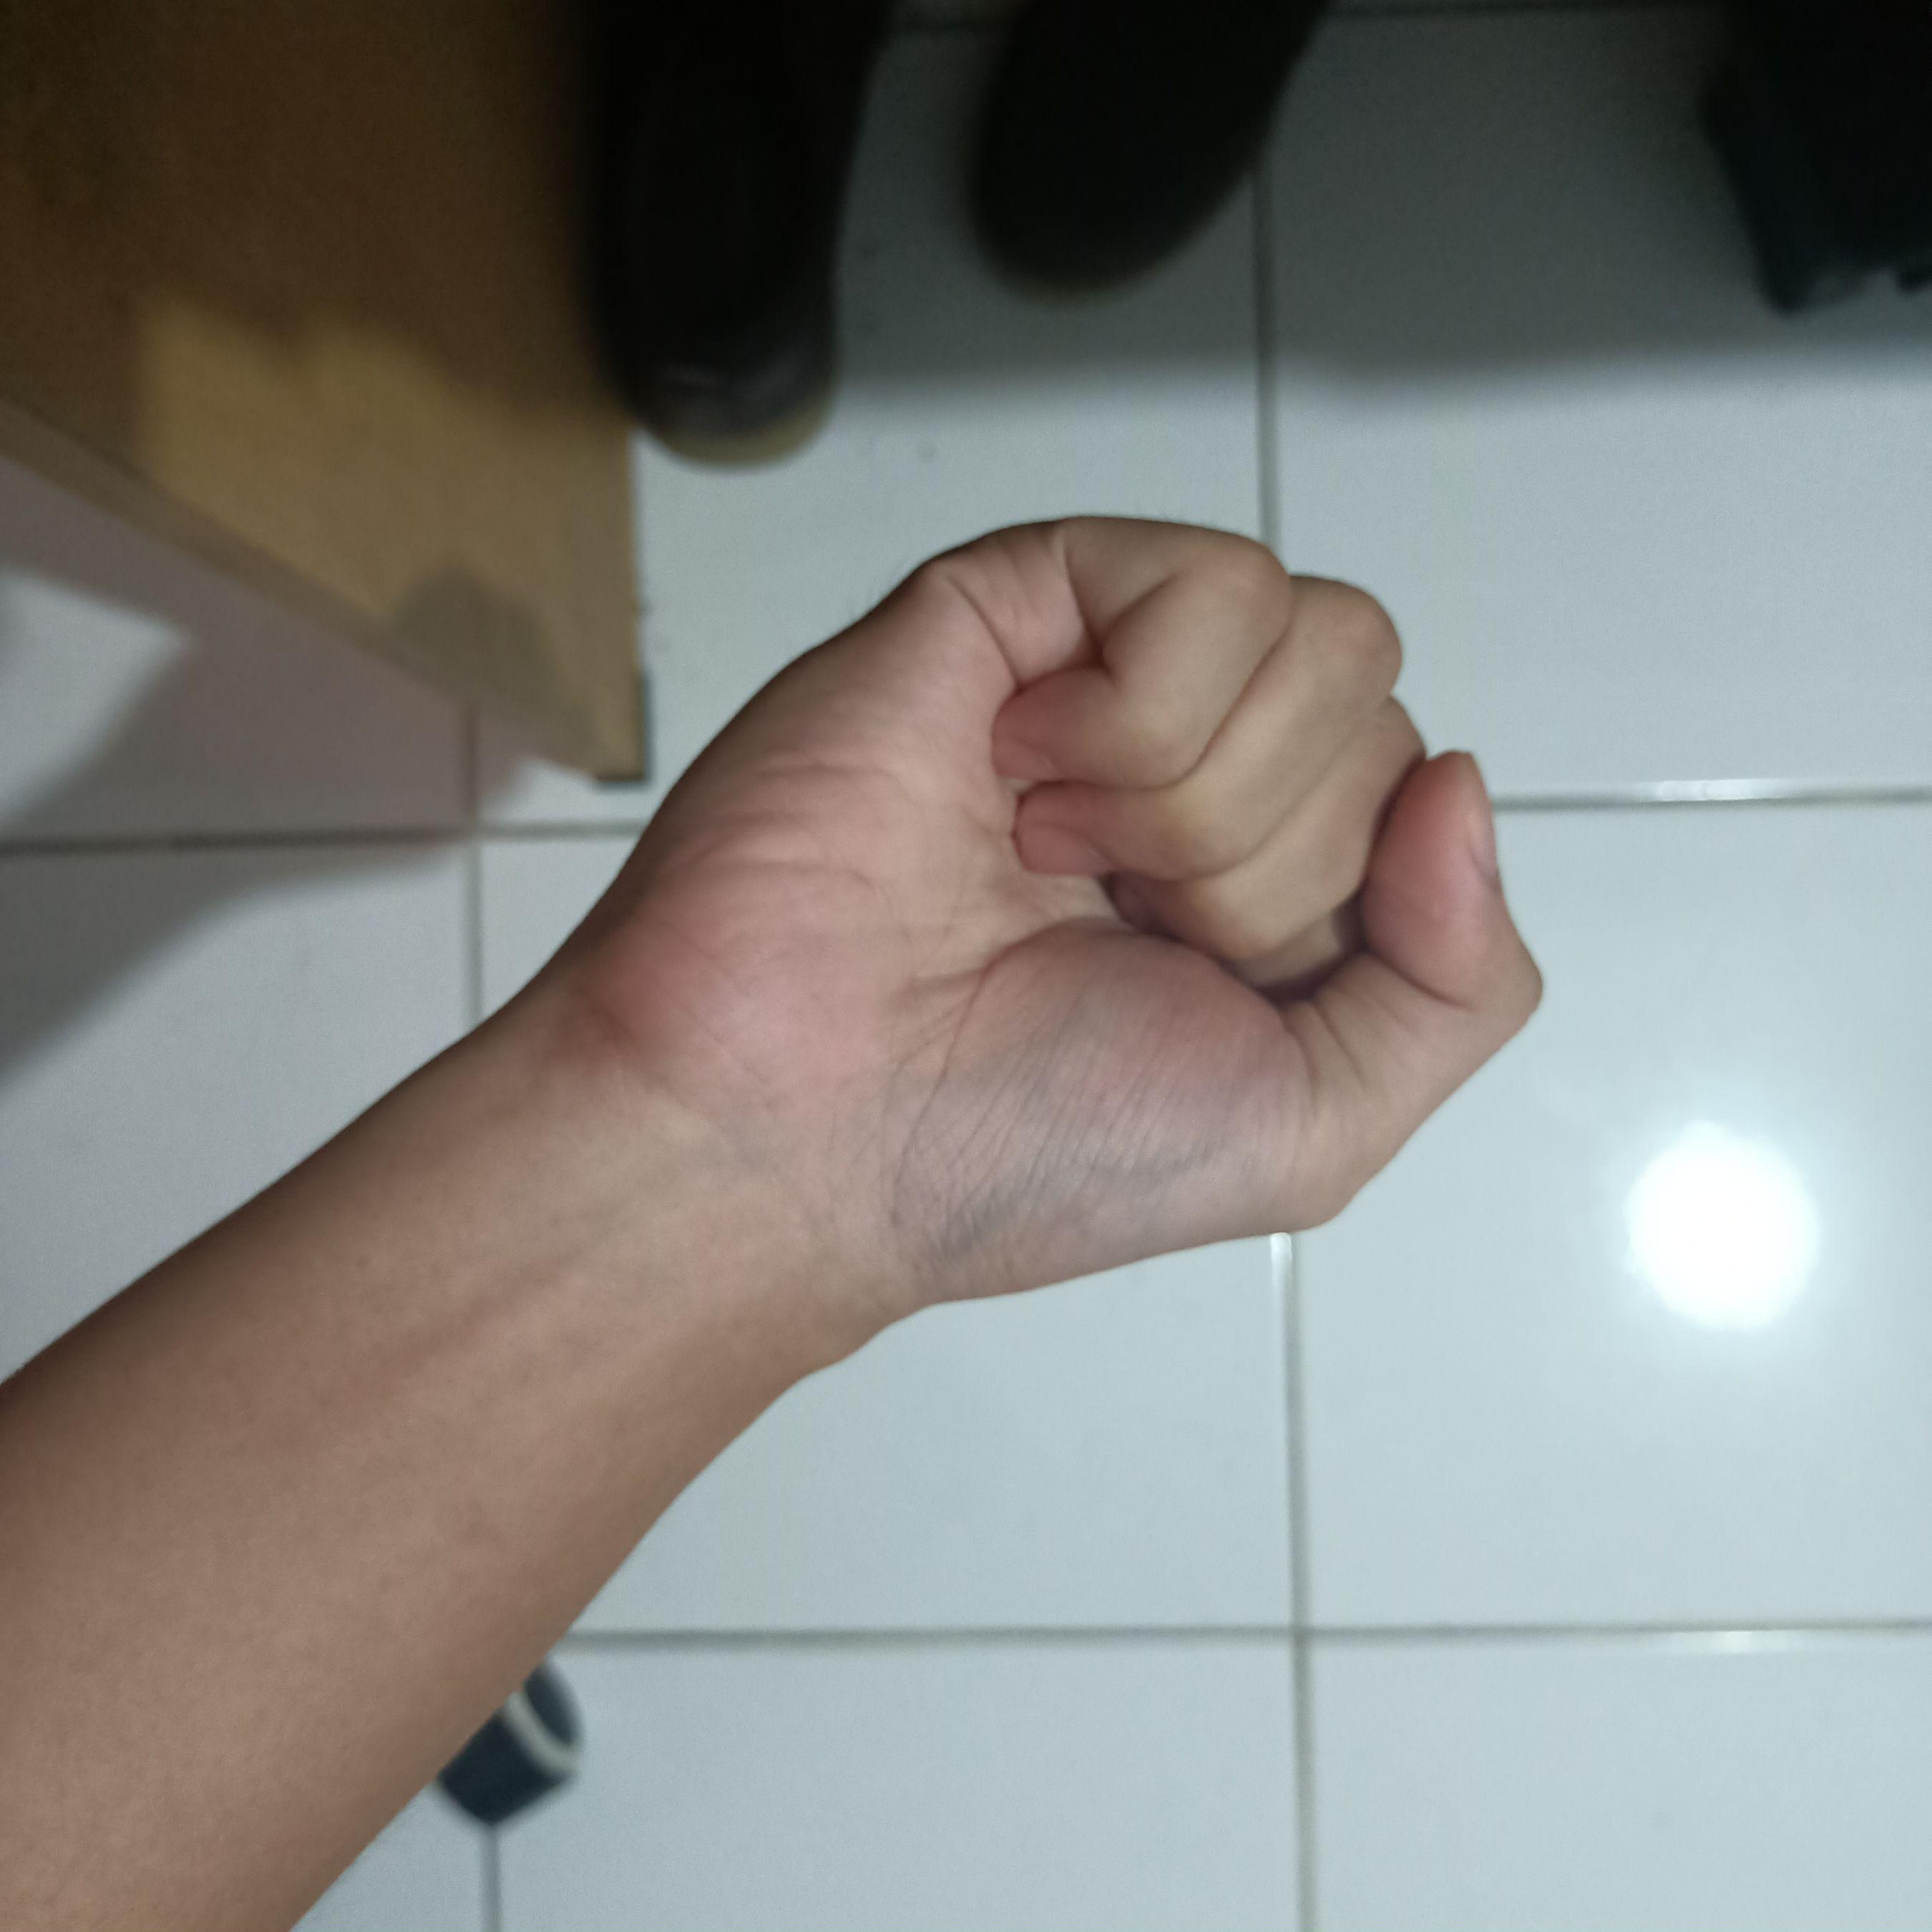rock: (502, 481, 1580, 1362)
